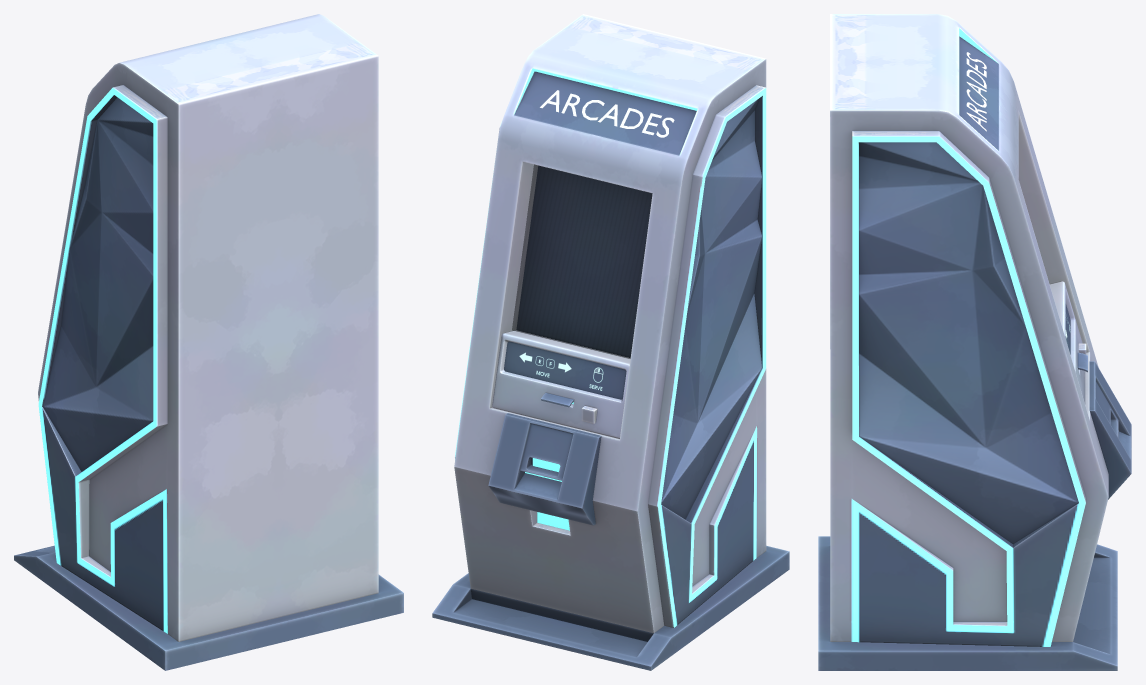
File: obj_arcade01.gltf
3 views of the same model, side by side, from view 1: azimuth 30°, elevation 25°; view 2: azimuth 150°, elevation 25°; view 3: azimuth 270°, elevation 25° (orthographic). The views are drawn at different scales.
Parts seen in each view (by area): view 1: obj_arcade01; view 2: obj_arcade01; view 3: obj_arcade01.
Boxes of the visible parts, bbox=[...] form: obj_arcade01: bbox=[14, 14, 403, 670]; obj_arcade01: bbox=[432, 14, 789, 670]; obj_arcade01: bbox=[818, 14, 1131, 670].
Size of what is drawn, in the model's own units: 1.24 by 2.76 by 1.42.
4 materials, 3 textured.
